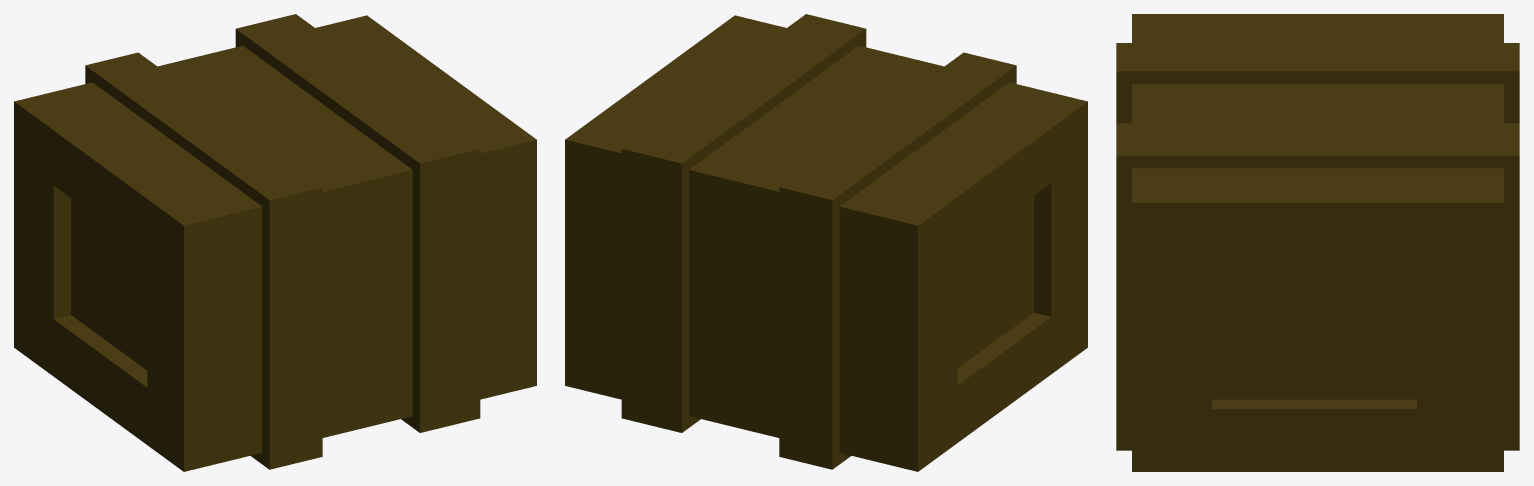
The picture shows the model from 3 angles, left to right: view 1: azimuth 30°, elevation 25°; view 2: azimuth 150°, elevation 25°; view 3: azimuth 270°, elevation 25°; orthographic projection. The views are drawn at different scales.
Parts seen in each view (by area): view 1: pCube1; view 2: pCube1; view 3: pCube1.
Boxes of the visible parts, left/top/right/bottom form: pCube1: left=14, top=14, right=536, bottom=471; pCube1: left=565, top=14, right=1087, bottom=471; pCube1: left=1116, top=14, right=1519, bottom=471.
Size of the model in its own units: 64.04 by 46.74 by 57.91.
